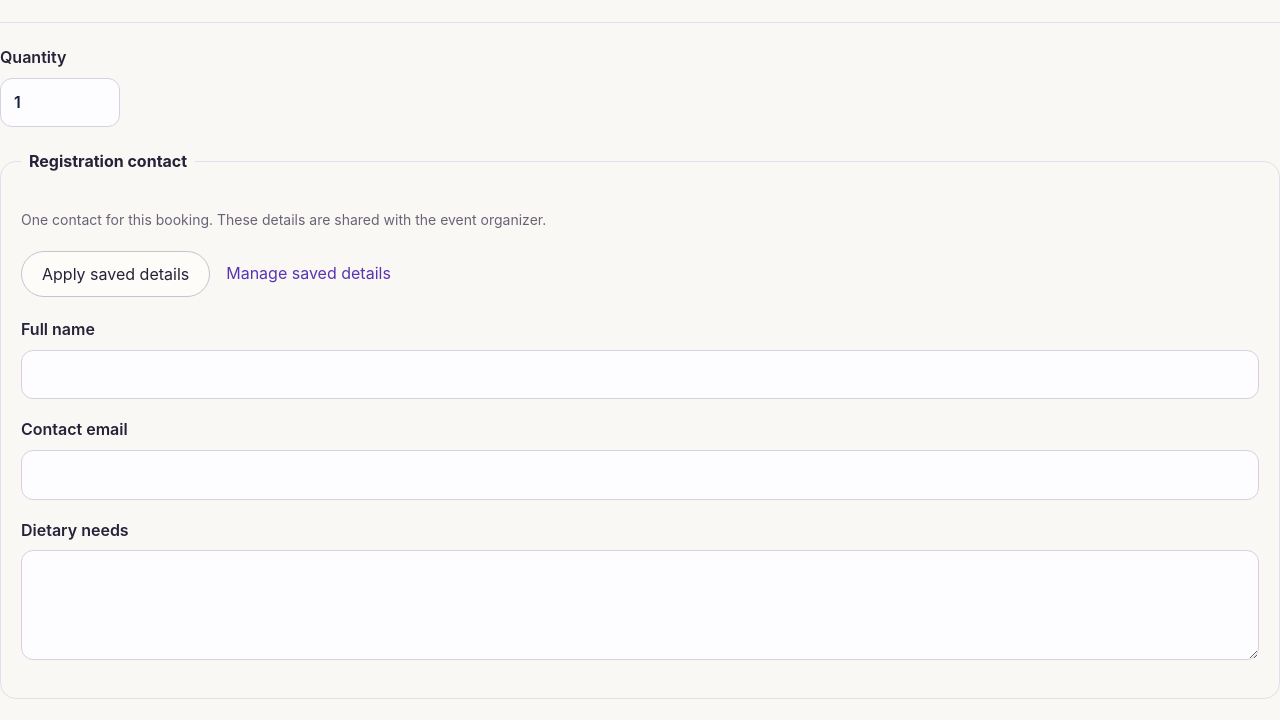
submits requested contact fields and preserves them for retry
The image size is (1280, 720).
Type " Alice Tan " into the field labelled "Full name" at x=640, y=375, box [21,350,1259,399]
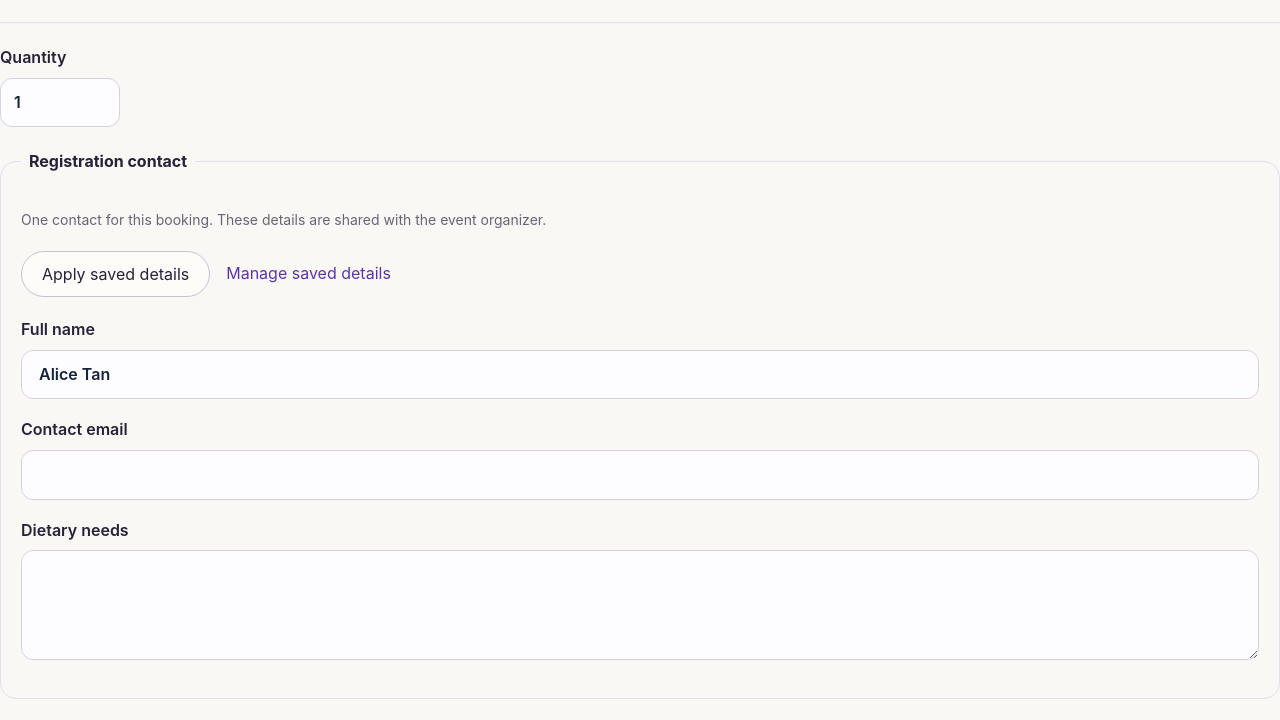
Type "alice@example.com" into the field labelled "Contact email" at x=640, y=475, box [21,450,1259,500]
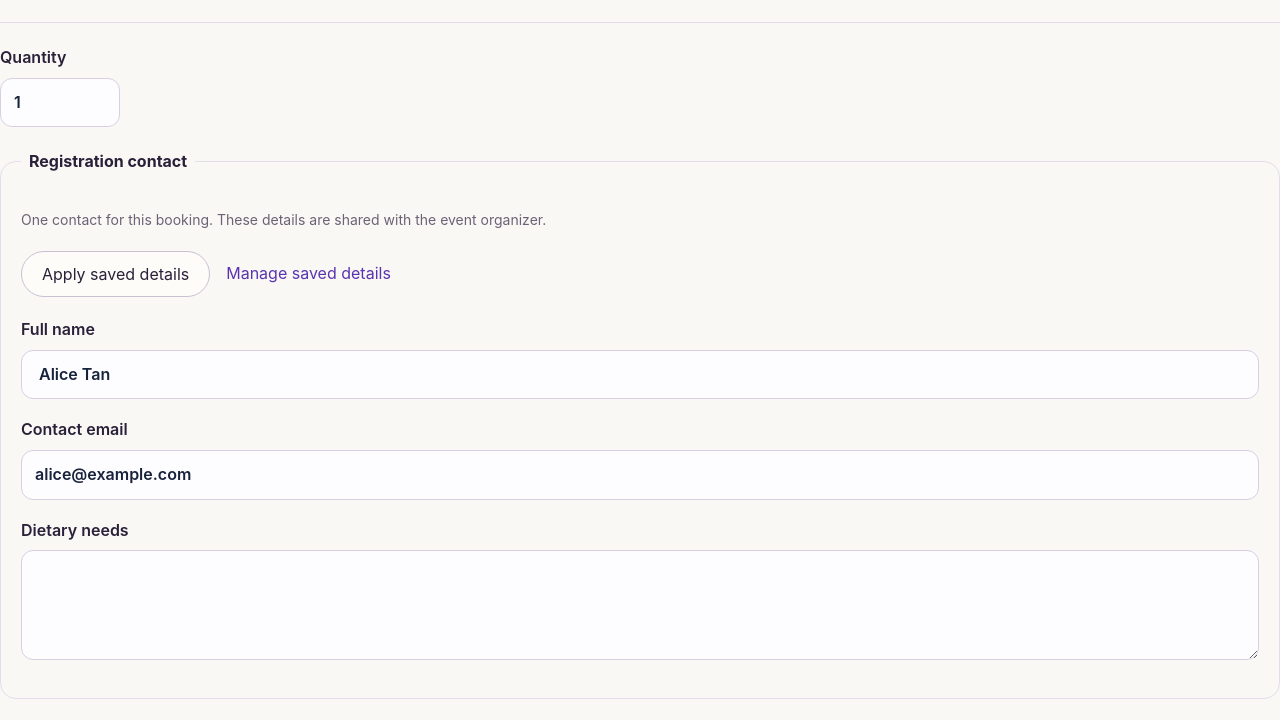
Type "None" into the text box labelled "Dietary needs" at x=640, y=605, box [21,550,1259,660]
(page scrolled)
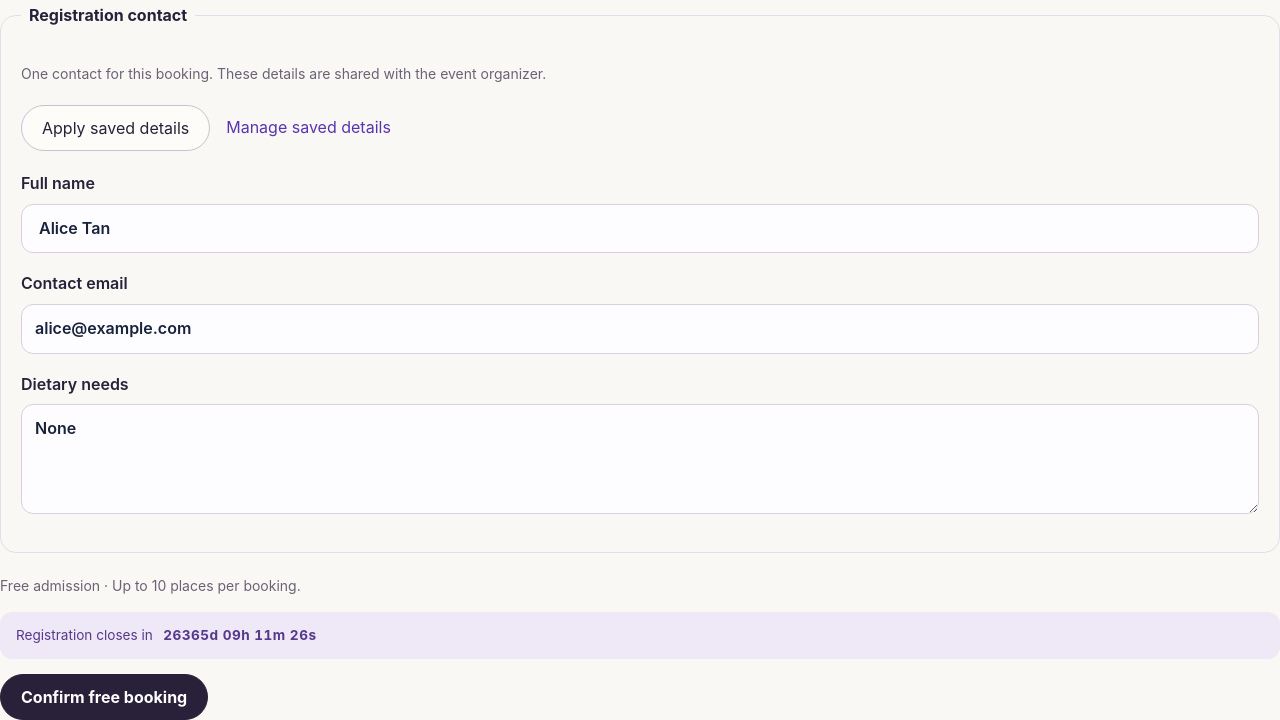
Click the button "Confirm free booking" at x=104, y=697, box [0,674,208,719]
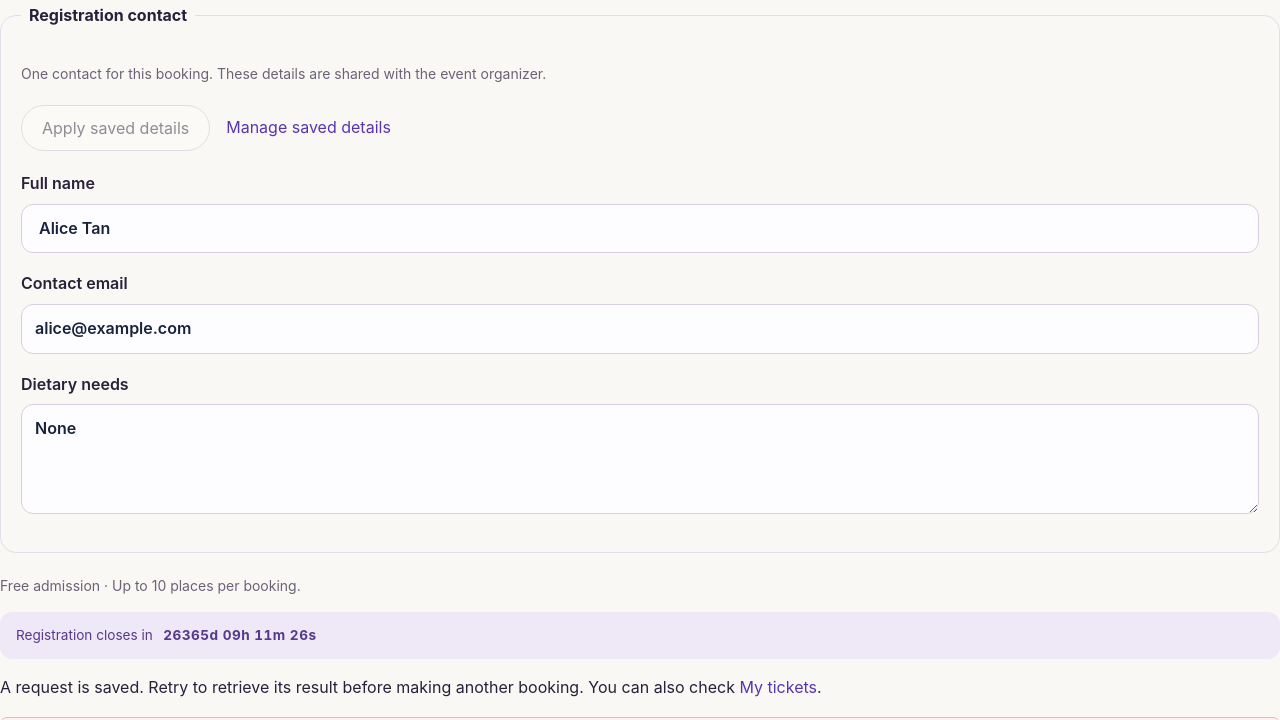
Check: the element named "Full name" is disabled
